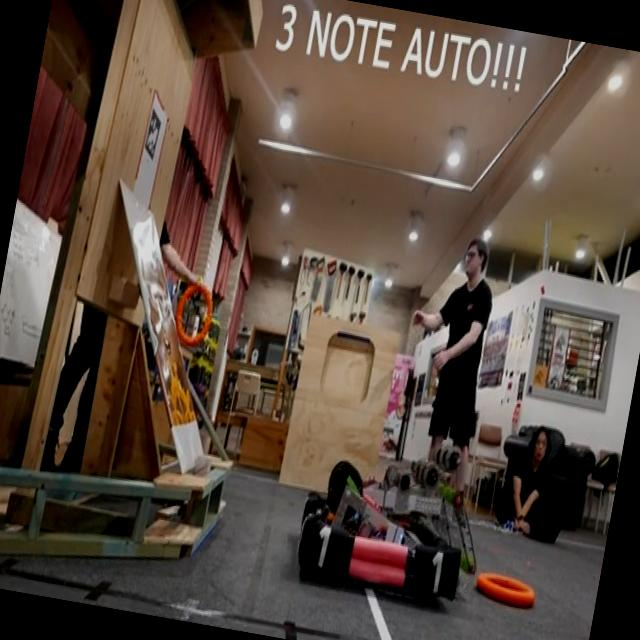note: (467, 558, 542, 618)
